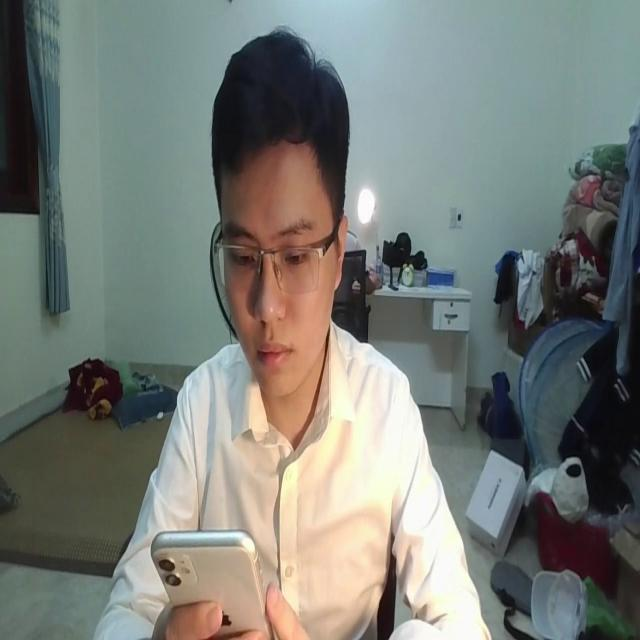phone: (150, 519, 276, 640)
student: (90, 21, 491, 640)
